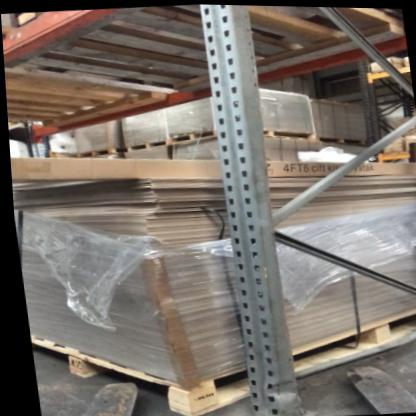vertical_damage: (231, 368, 304, 410)
